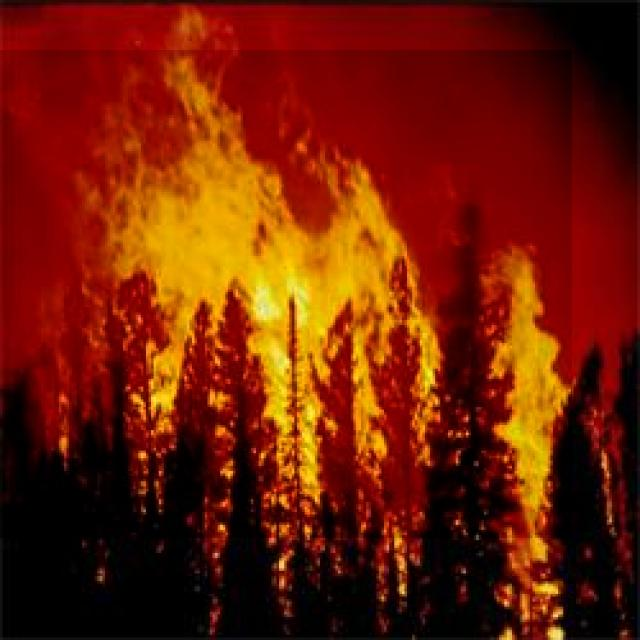Fire: (0, 50, 572, 538)
